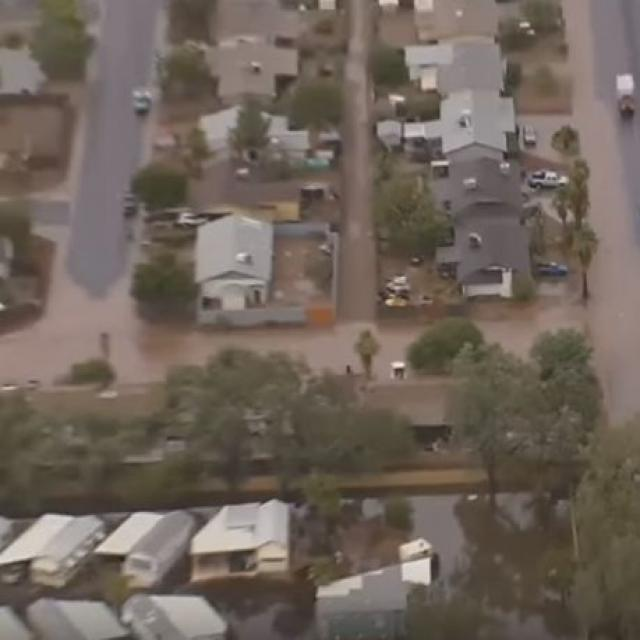flood: (477, 0, 640, 426), (0, 286, 359, 384), (374, 323, 429, 379)
house: (434, 145, 543, 299), (195, 500, 298, 588), (191, 215, 274, 310), (416, 90, 522, 155), (200, 41, 305, 104), (22, 510, 108, 586), (412, 38, 514, 93), (126, 507, 194, 589), (126, 592, 227, 640), (28, 595, 113, 640)
